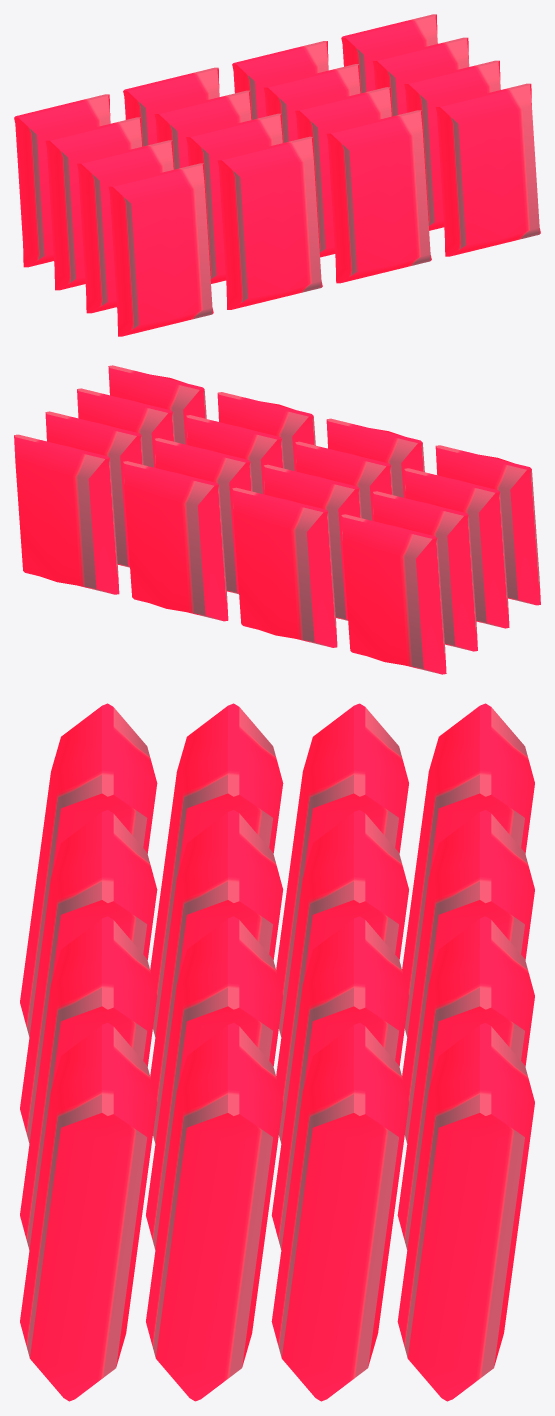
File: RedDoritos_Chip.fbx
3 views of the same model, one above another, from view 1: azimuth 30°, elevation 25°; view 2: azimuth 150°, elevation 25°; view 3: azimuth 270°, elevation 25° (orthographic). The views are drawn at different scales.
Parts seen in each view (by area): view 1: Dorito83; view 2: Dorito83; view 3: Dorito83.
Boxes of the visible parts, bbox=[...] form: Dorito83: bbox=[14, 14, 540, 336]; Dorito83: bbox=[14, 365, 540, 674]; Dorito83: bbox=[20, 703, 534, 1401].
Size of the model in its own units: 116 by 37.66 by 61.37.
